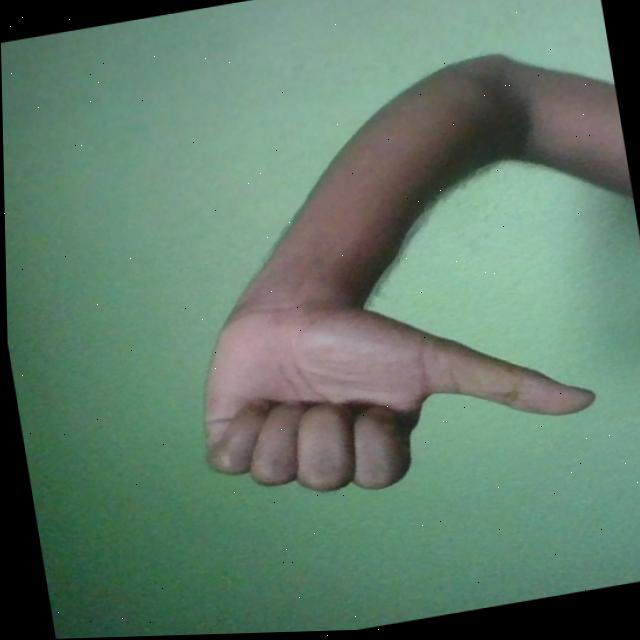Dislike: (181, 253, 606, 517)
